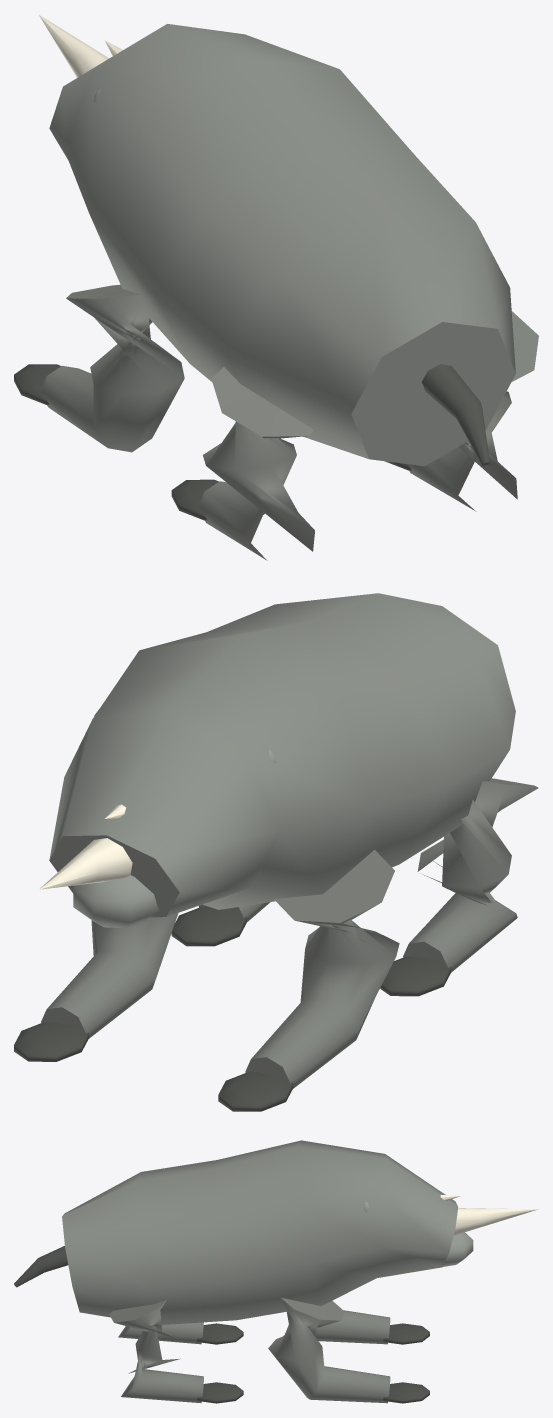
The model's file is rhino_mobile.glb.
3 renders of one model, top to bottom at view 1: azimuth 30°, elevation 25°; view 2: azimuth 150°, elevation 25°; view 3: azimuth 270°, elevation 25°, orthographic. The views are drawn at different scales.
Visible parts, largest first — view 1: RhinoOrganicBody, Leg_LF, Leg_LH, Leg_RH, Tail, HornDetail_0, Paw_LH, Paw_LF; view 2: RhinoOrganicBody, Leg_LF, Leg_LH, Leg_RF, Muzzle, HornDetail_0, Paw_LF, Paw_RF, Paw_RH, Paw_LH; view 3: RhinoOrganicBody, Leg_RF, Leg_RH, Leg_LF, HornDetail_0, Leg_LH, Tail, Paw_RH, Paw_LH, Paw_LF, Paw_RF, Muzzle.
Part boxes in pixels (bbox=[...]): RhinoOrganicBody: bbox=[49, 24, 515, 466]; Leg_LF: bbox=[41, 284, 184, 452]; Leg_LH: bbox=[198, 367, 314, 560]; Leg_RH: bbox=[409, 311, 538, 511]; Tail: bbox=[422, 364, 489, 465]; HornDetail_0: bbox=[39, 15, 108, 77]; Paw_LH: bbox=[171, 479, 218, 520]; Paw_LF: bbox=[14, 364, 60, 404]; RhinoOrganicBody: bbox=[49, 593, 515, 917]; Leg_LF: bbox=[245, 849, 399, 1088]; Leg_LH: bbox=[403, 778, 538, 972]; Leg_RF: bbox=[41, 913, 178, 1038]; Muzzle: bbox=[73, 875, 158, 928]; HornDetail_0: bbox=[39, 838, 132, 889]; Paw_LF: bbox=[218, 1072, 293, 1111]; Paw_RF: bbox=[14, 1022, 88, 1061]; Paw_RH: bbox=[171, 906, 246, 946]; Paw_LH: bbox=[380, 956, 451, 996]; RhinoOrganicBody: bbox=[62, 1140, 458, 1325]; Leg_RF: bbox=[268, 1298, 390, 1403]; Leg_RH: bbox=[109, 1300, 203, 1403]; Leg_LF: bbox=[315, 1310, 390, 1344]; HornDetail_0: bbox=[454, 1208, 538, 1235]; Leg_LH: bbox=[118, 1322, 203, 1344]; Tail: bbox=[14, 1246, 68, 1287]; Paw_RH: bbox=[196, 1382, 243, 1403]; Paw_LH: bbox=[196, 1323, 243, 1344]; Paw_LF: bbox=[383, 1323, 429, 1344]; Paw_RF: bbox=[383, 1382, 429, 1403]; Muzzle: bbox=[443, 1232, 473, 1266].
Size of the model in its own units: 2.1 by 2.42 by 5.1.
